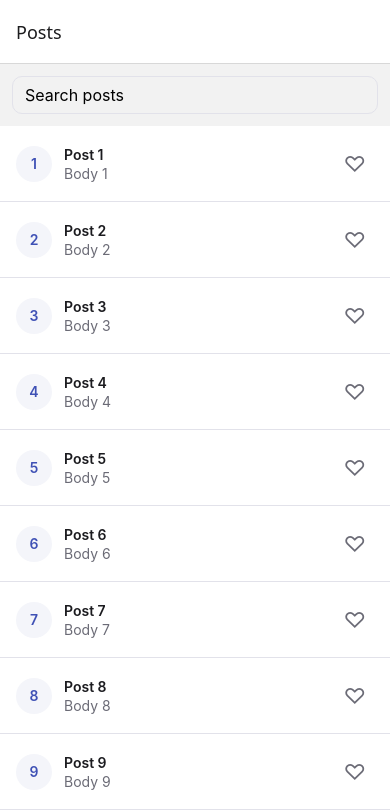
Test case: tapping a post opens its detail with comments
The image size is (390, 811).
Click the text "Post 3" at (85, 306), box [64,298,106,314]
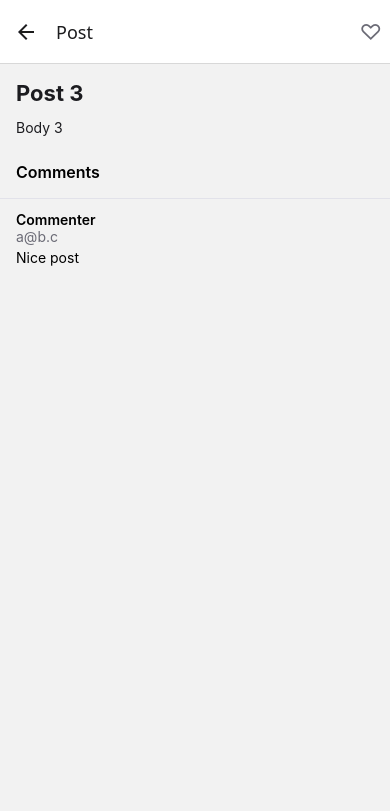
Expected: the text "Body 3" is shown, [16,119,63,136]
Now the text "Nice post" is shown, box [16,249,79,266]
